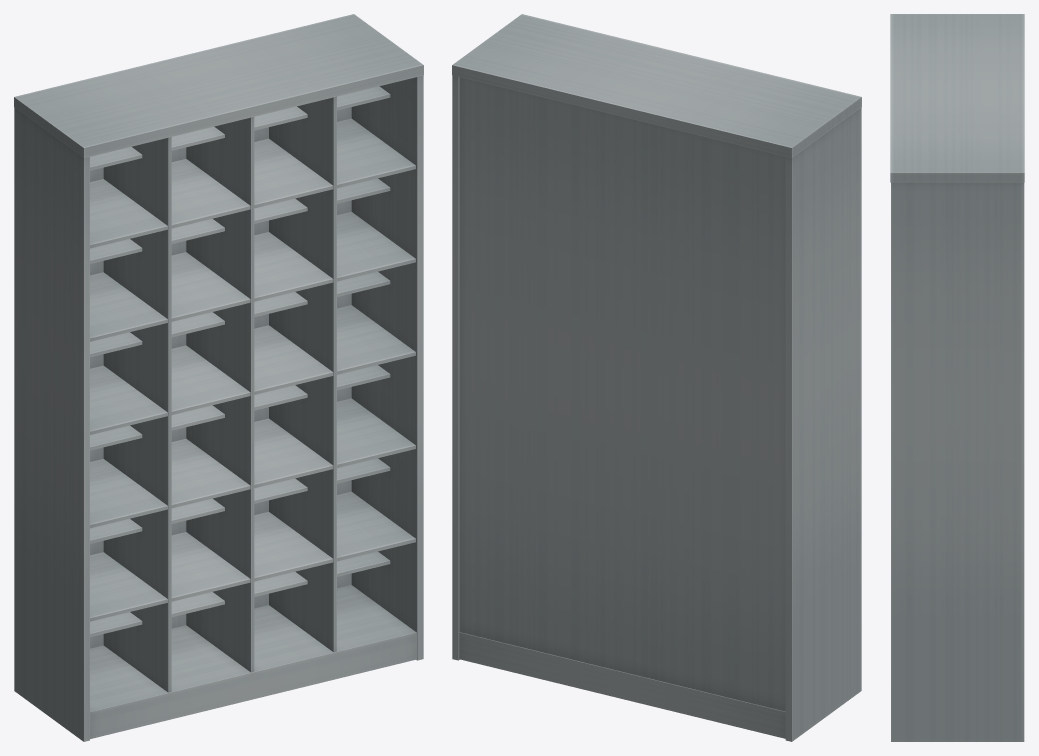
The model's file is set_shoecupboard_a_02.fbx.
3 views of the same model, side by side, from view 1: azimuth 30°, elevation 25°; view 2: azimuth 150°, elevation 25°; view 3: azimuth 270°, elevation 25° (orthographic). The views are drawn at different scales.
Visible parts, largest first — view 1: set_shoecupboard_a_02; view 2: set_shoecupboard_a_02; view 3: set_shoecupboard_a_02.
Part boxes in pixels (bbox=[...]): set_shoecupboard_a_02: bbox=[14, 14, 423, 741]; set_shoecupboard_a_02: bbox=[452, 14, 861, 741]; set_shoecupboard_a_02: bbox=[890, 14, 1024, 741].
Bounding box in the file's own units: 105 × 175 × 37.38.
